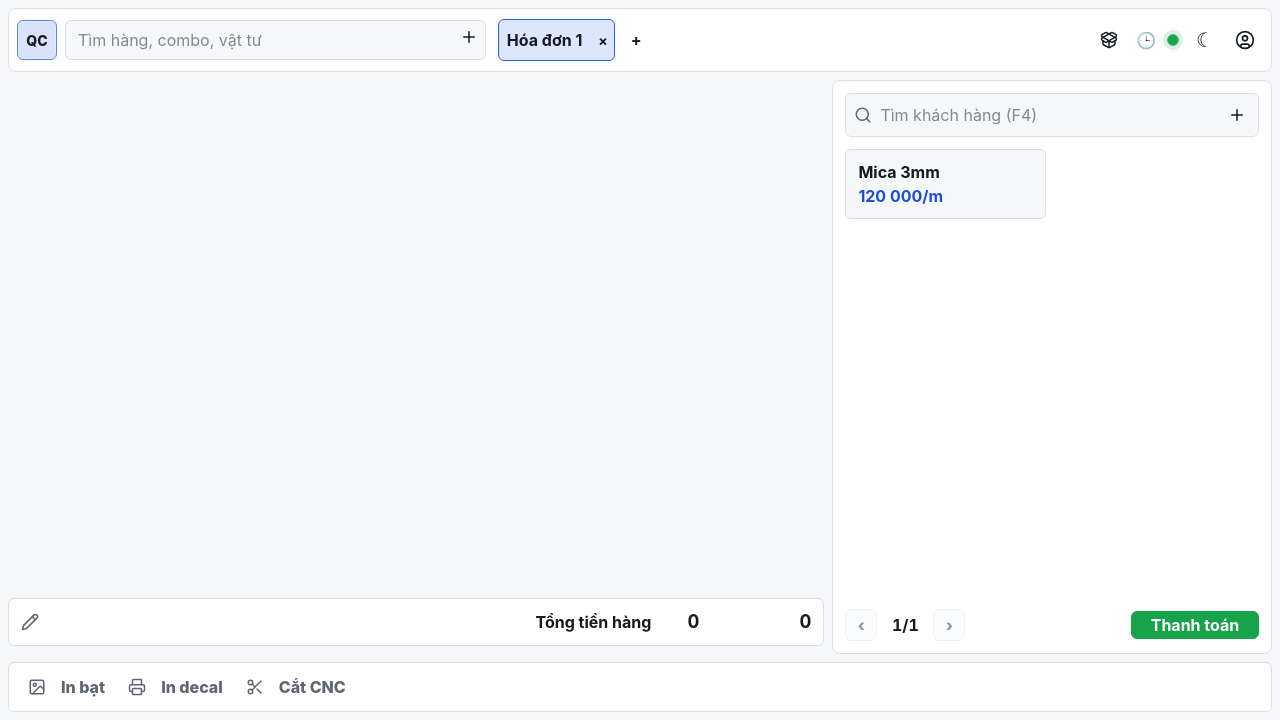
Test: opens topbar manual material opening and submits normal material opening
expect the button "Mica 3mm 120 000/m" is shown: met, box [845,149,1046,219]
Click the button named "Khui vật tư" at point(1109, 40), box [1096,27,1121,53]
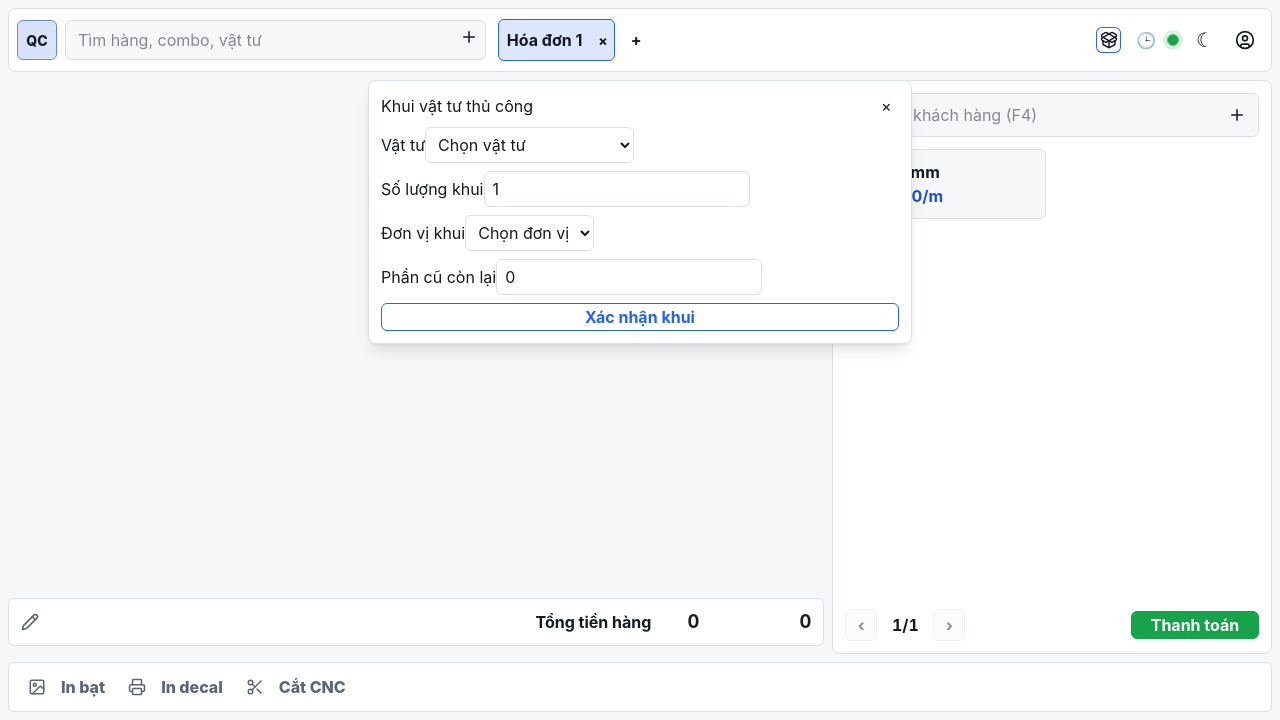
Select "MICA-3MM Mica 3mm" in the dropdown named "Vật tư khui thủ công" at point(530, 145), box [425,127,634,163]
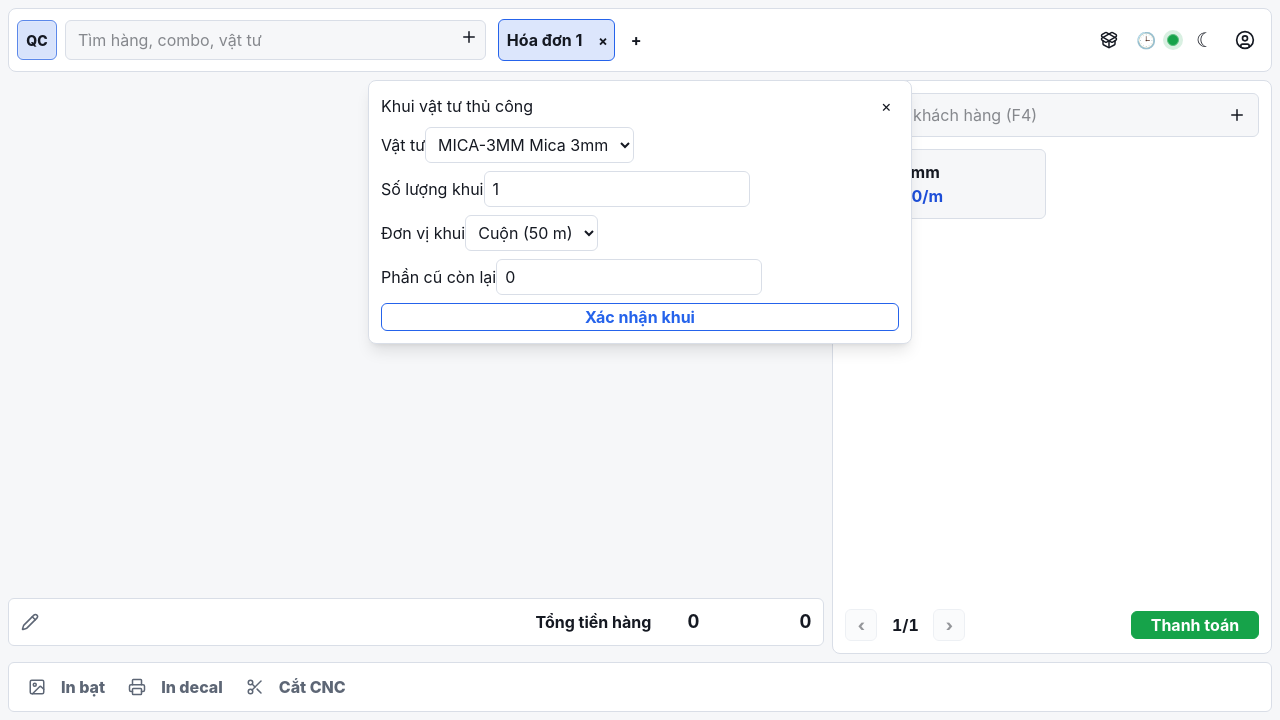
Replace the text in the number field named "Số lượng khui thủ công" with "2" at point(616, 189), box [484,171,750,207]
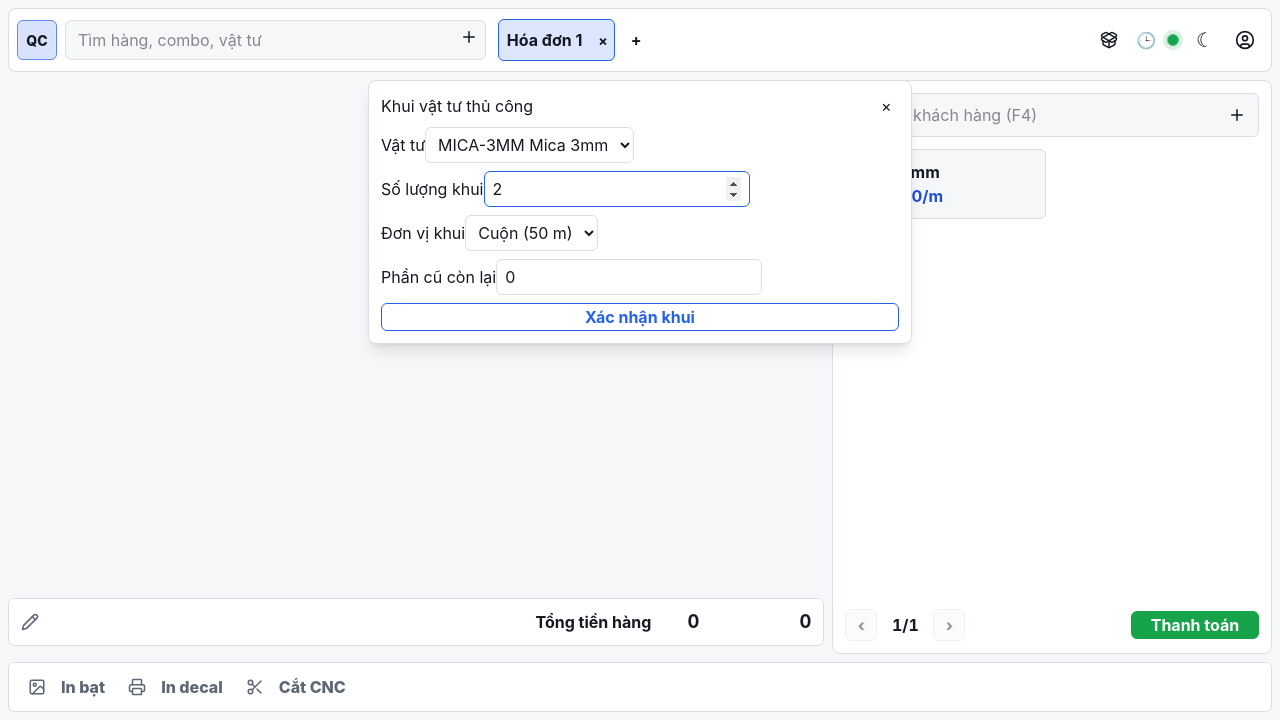
Replace the text in the number field named "Phần cũ còn lại thủ công" with "1" at point(629, 277), box [496,259,762,295]
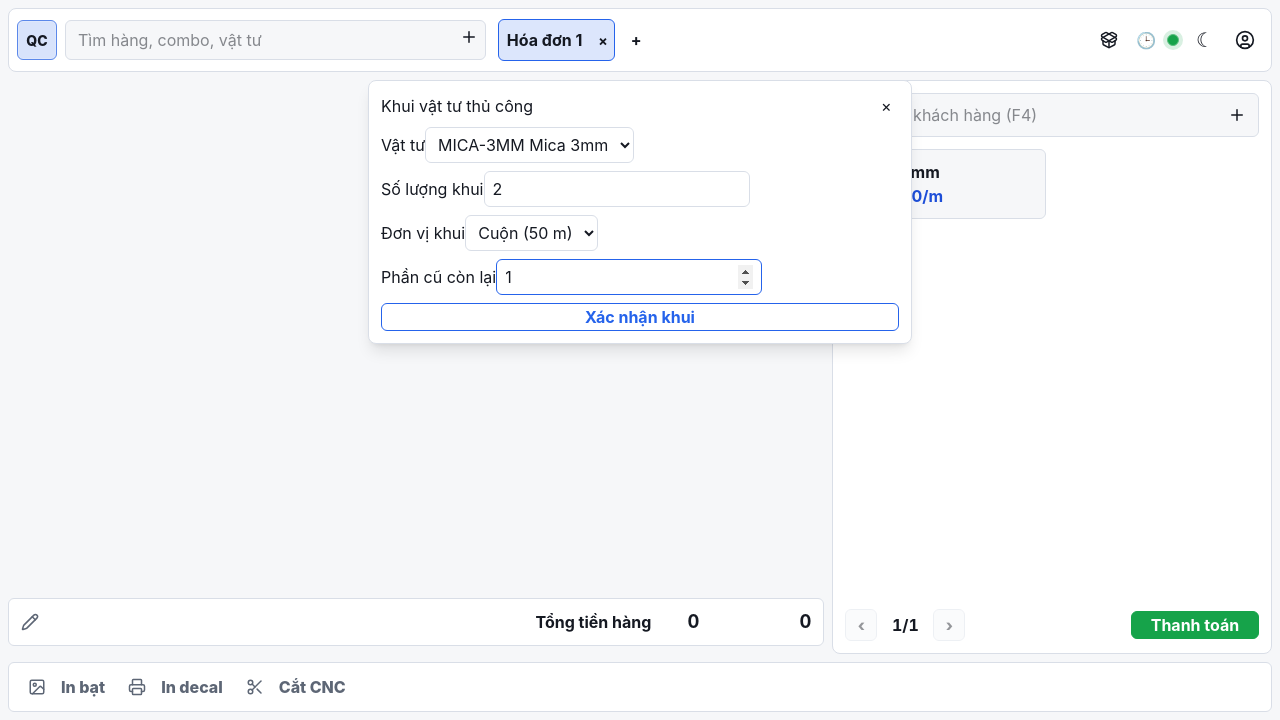
Click the button "Xác nhận khui" at point(640, 317), box [381,303,899,331]
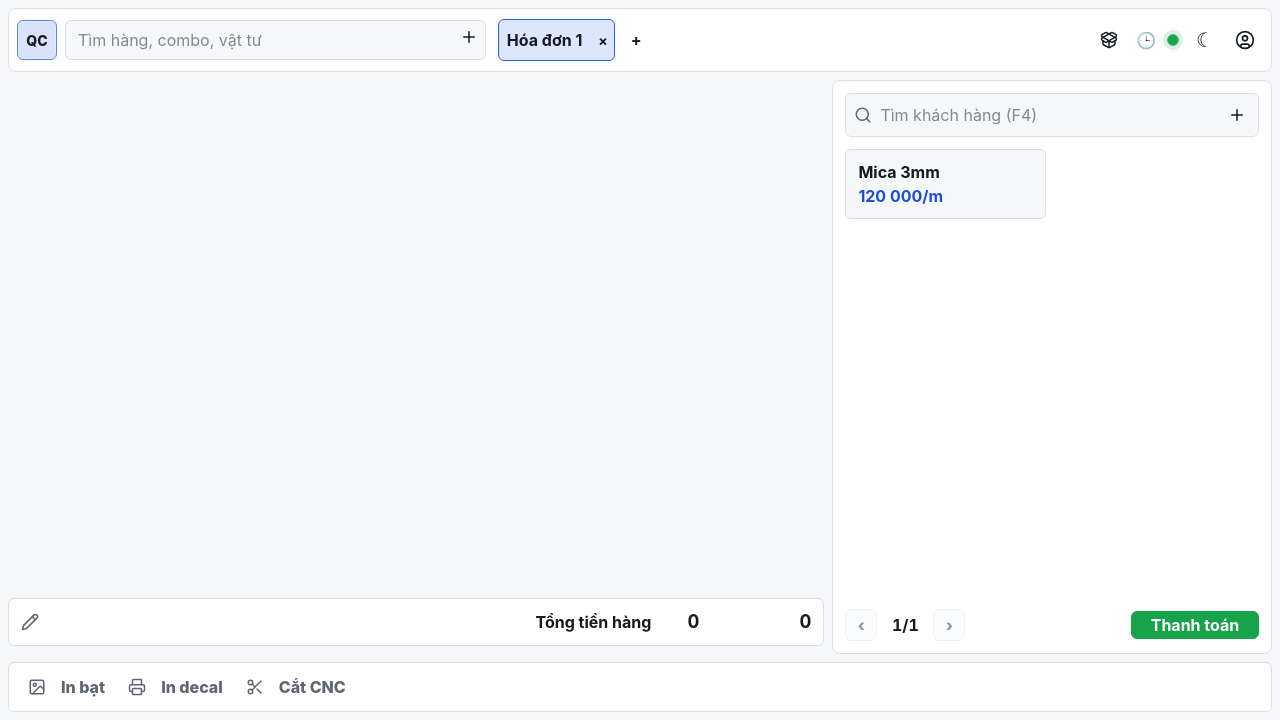
expect the heading "Khui vật tư thủ công" is gone: met
